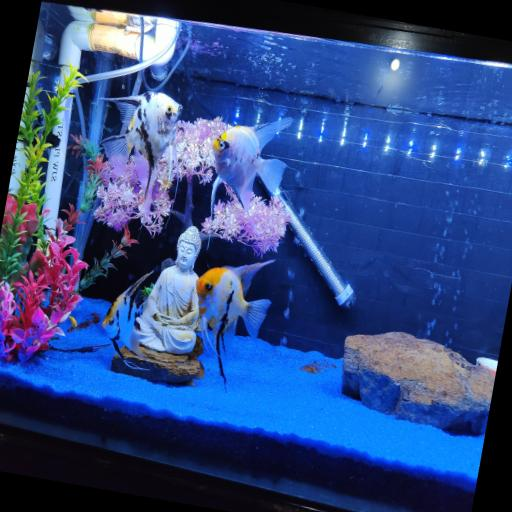Fish: (195, 260, 273, 388), (101, 92, 181, 213), (210, 118, 292, 222), (101, 272, 151, 358)
